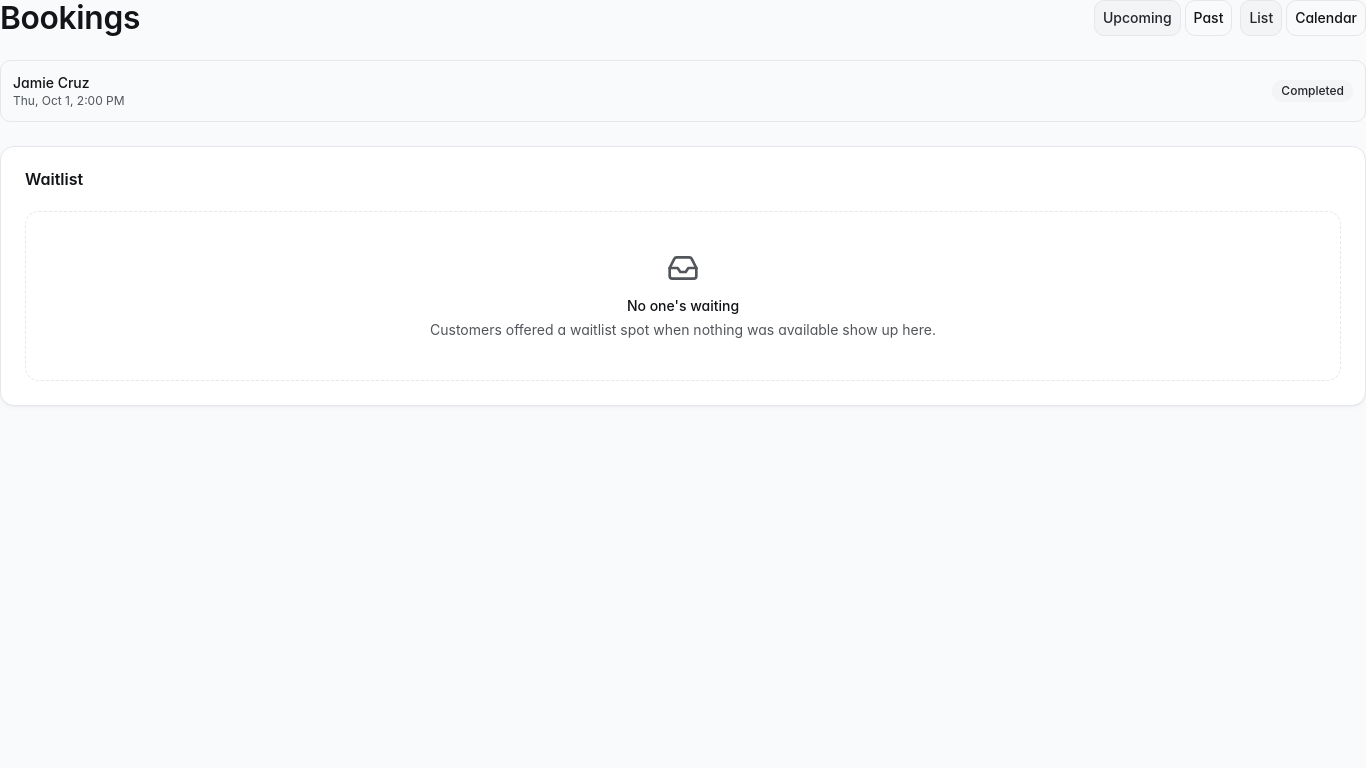
Test: BookingsPage reschedule (QA-1 F-07 / F-20) › does not offer Confirm / Reschedule / Cancel on a completed booking
The width and height of the screenshot is (1366, 768).
Click the text "Jamie Cruz": (51, 83) [13, 74, 90, 92]
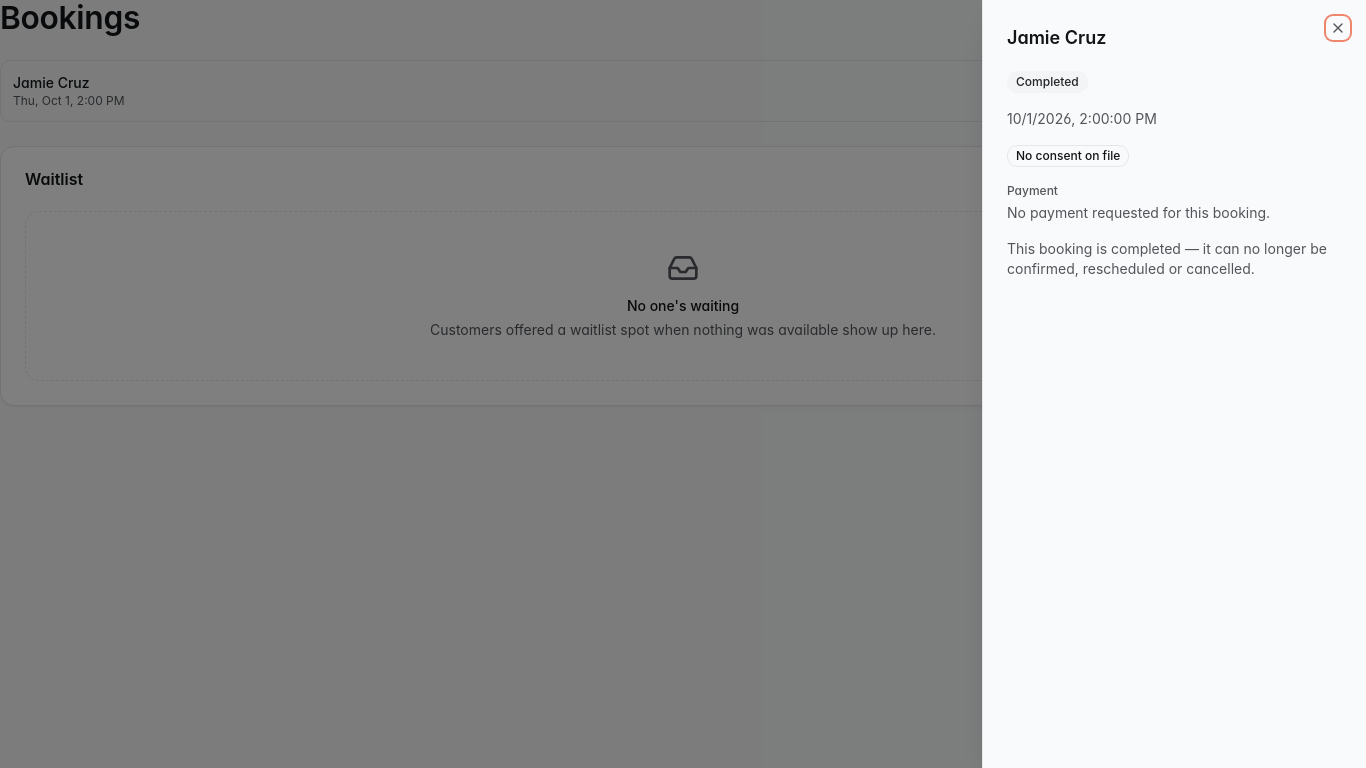
Expected: the text "can no longer be confirmed, rescheduled or cancelled" is shown, [1007, 240, 1327, 277]
